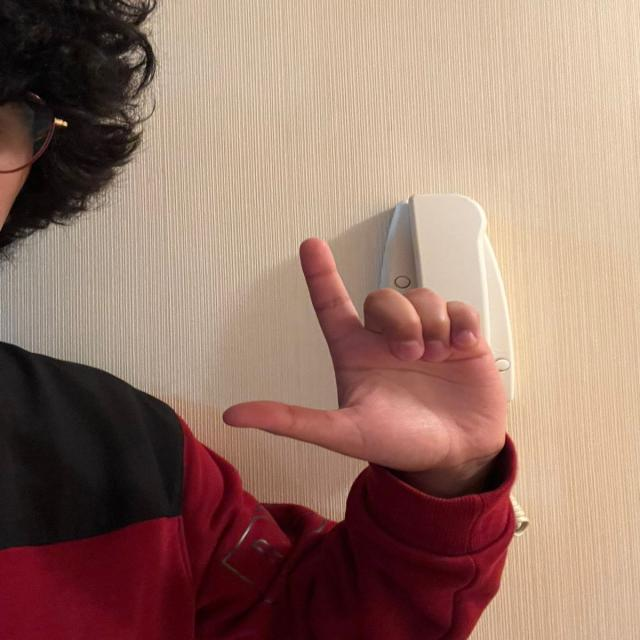L: (215, 229, 521, 490)
